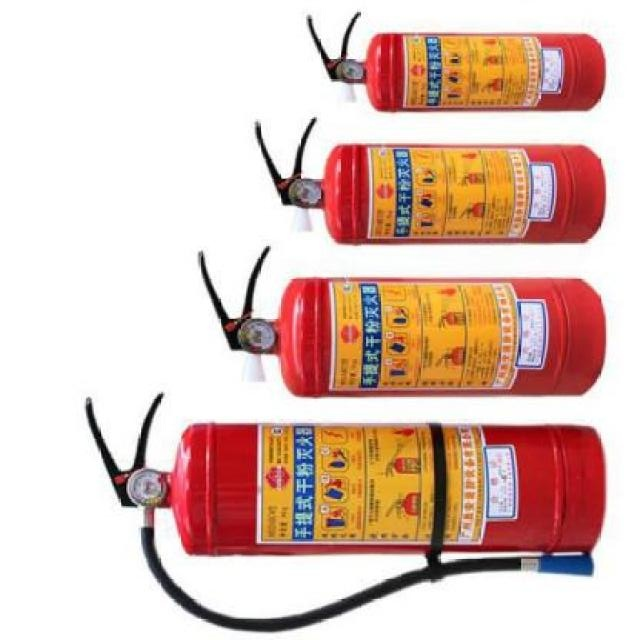fire extinguisher: (83, 391, 606, 634), (196, 245, 607, 400), (255, 118, 608, 245), (306, 10, 606, 115)
